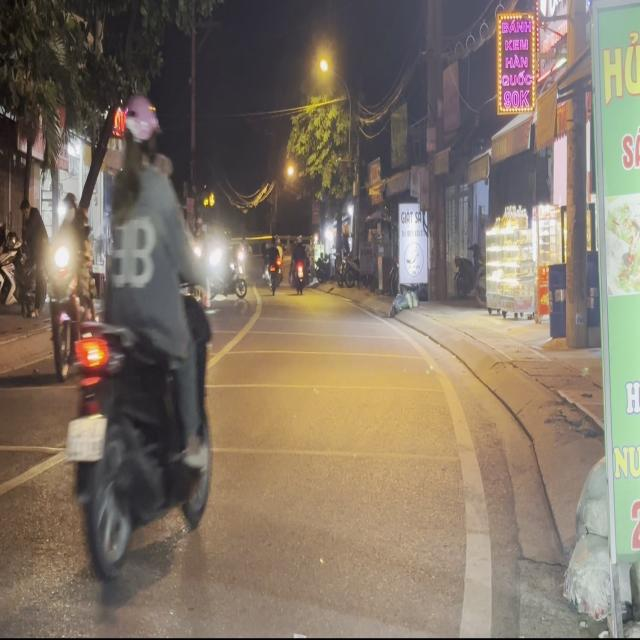helmet: (121, 94, 159, 165)
licenseplate: (58, 90, 217, 597), (46, 185, 94, 379)
nohelmet: (66, 415, 106, 460)
